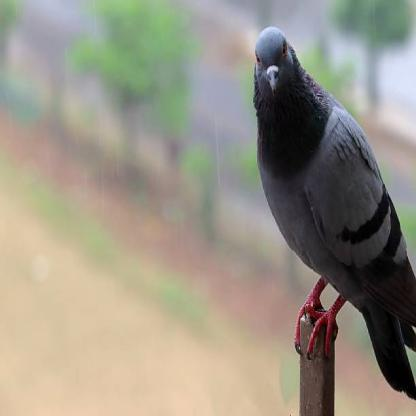Rock Pigeon: (243, 24, 412, 343)
